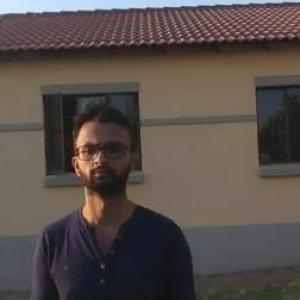follow: (24, 90, 209, 299)
